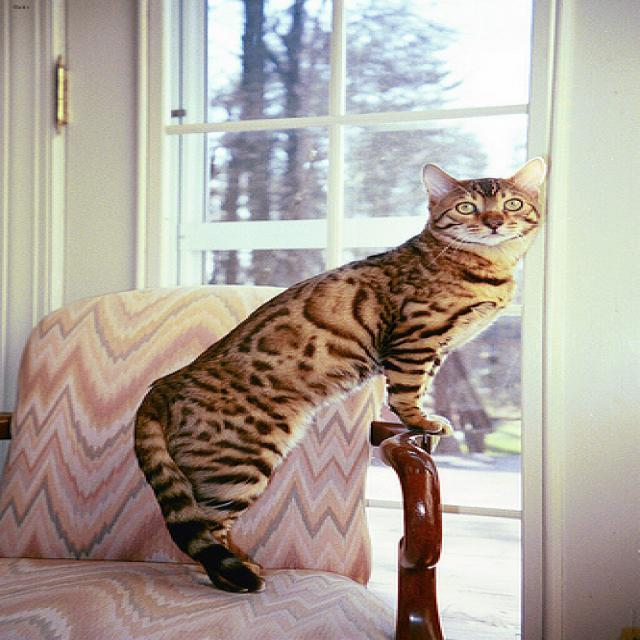Bengal: (406, 151, 582, 252)
